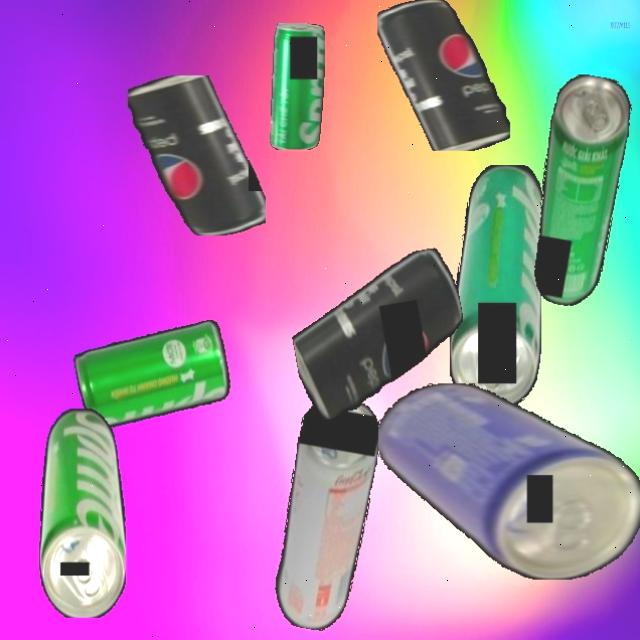debris: (377, 383, 640, 580), (282, 245, 476, 422), (267, 392, 386, 635), (520, 70, 637, 311), (449, 164, 541, 408), (127, 76, 266, 236), (378, 0, 510, 151), (38, 406, 126, 618), (72, 319, 235, 432), (270, 22, 325, 150)
